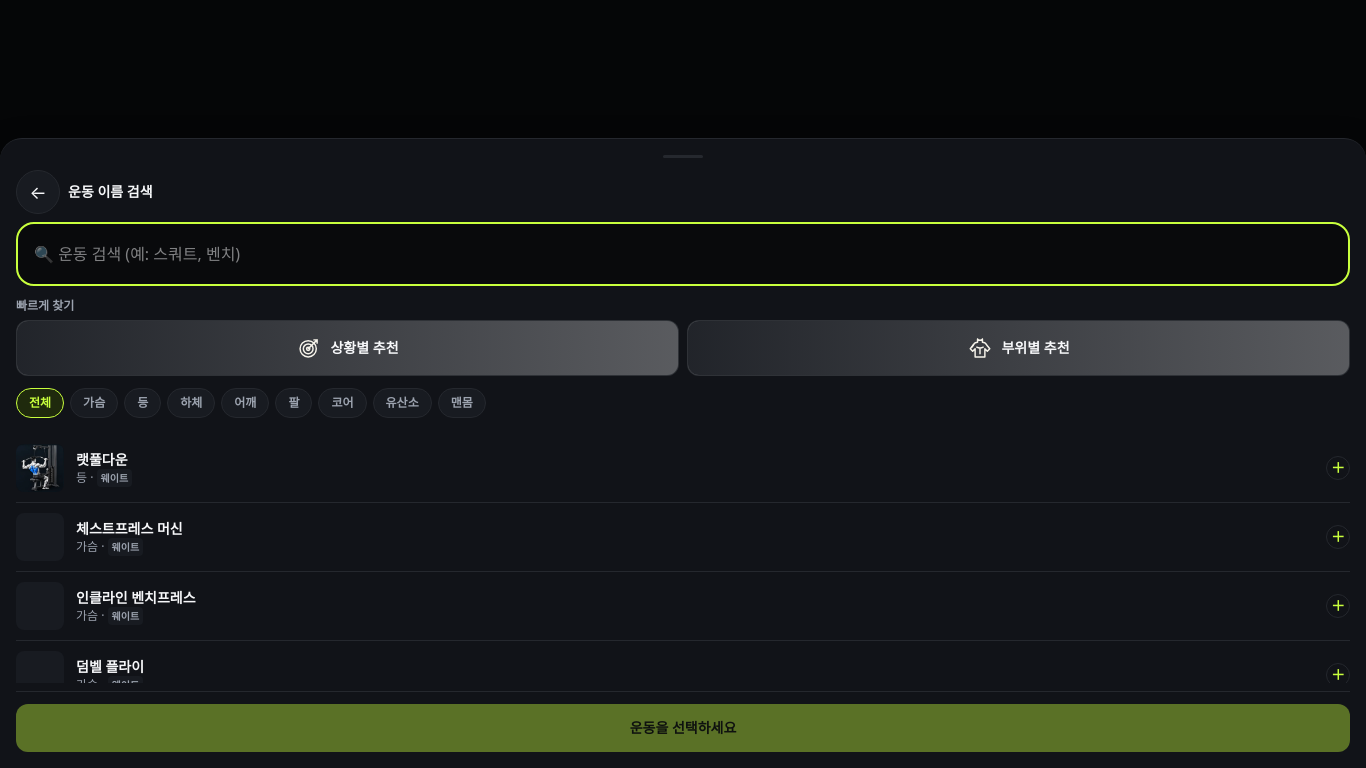
Scenario: 검색 모드 — 직접 만들기는 결과가 없을 때만 (사용자 지시 2026-08-06) › 검색 결과가 0건일 때만 나온다
Type "ㅋㅋㅋ" into the field with placeholder "🔍 운동 검색 (예: 스쿼트, 벤치)". click: (683, 254)
box: [16, 222, 1350, 286]
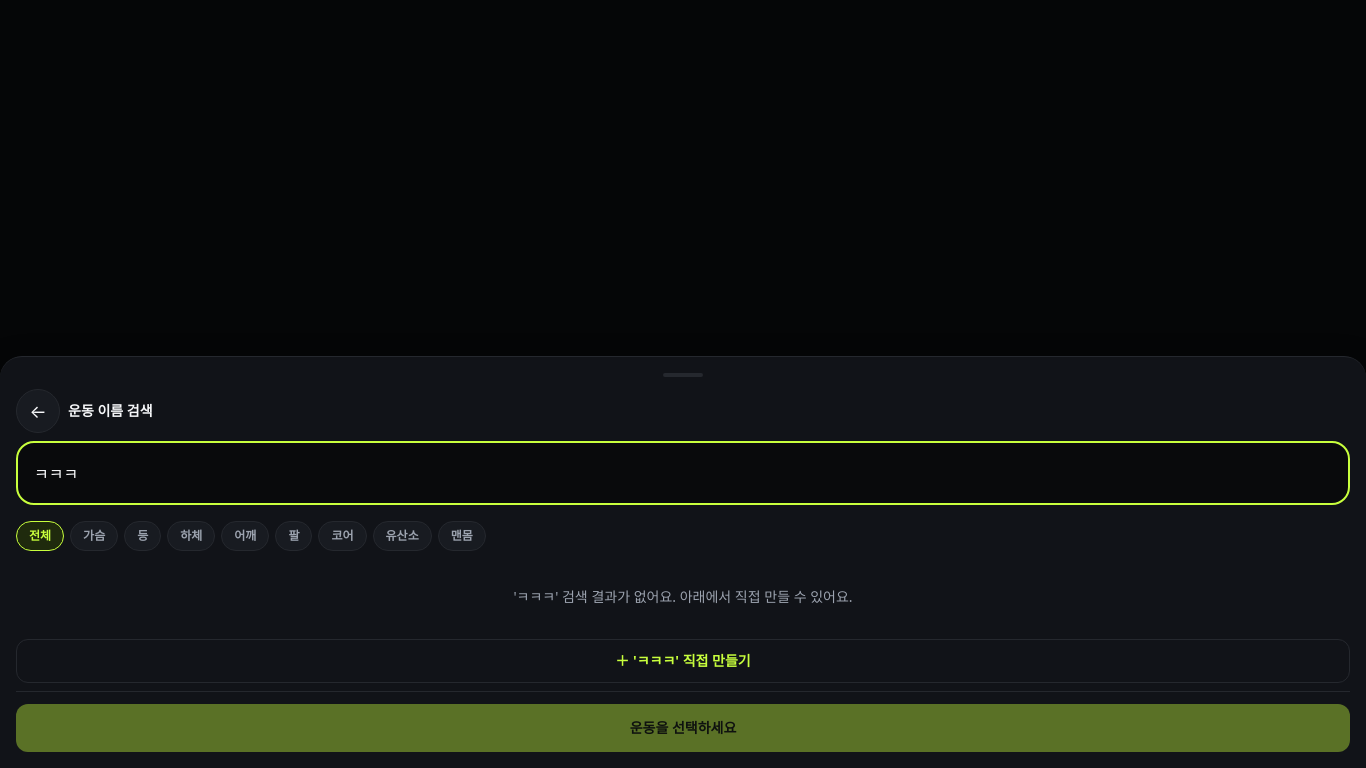
Check: the button "＋ 'ㅋㅋㅋ' 직접 만들기" is shown, box [16, 639, 1350, 683]
Note: 검색어를 지우면 다시 사라진다 (부정 확인)
Clear the field with placeholder "🔍 운동 검색 (예: 스쿼트, 벤치)". click: (683, 473)
box: [16, 441, 1350, 505]
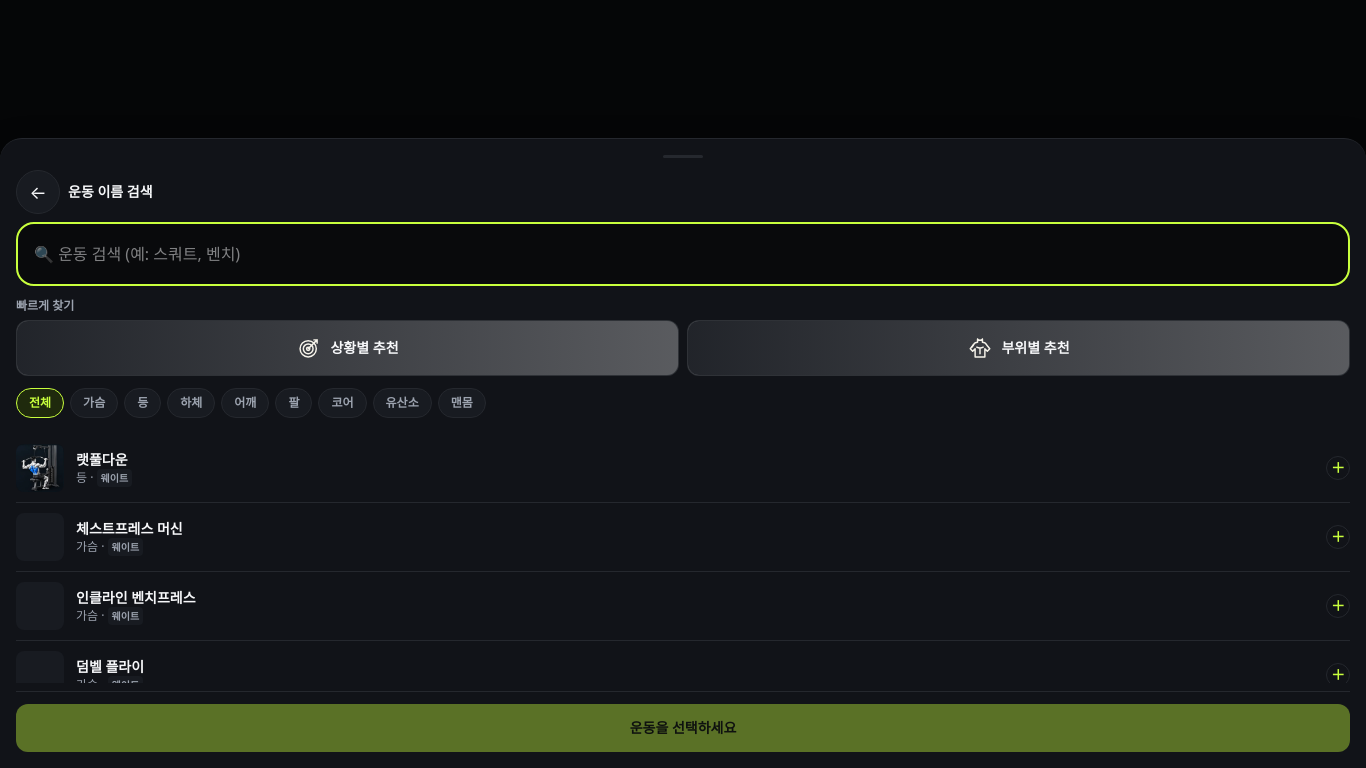
Check: the button "직접 만들기" is gone
